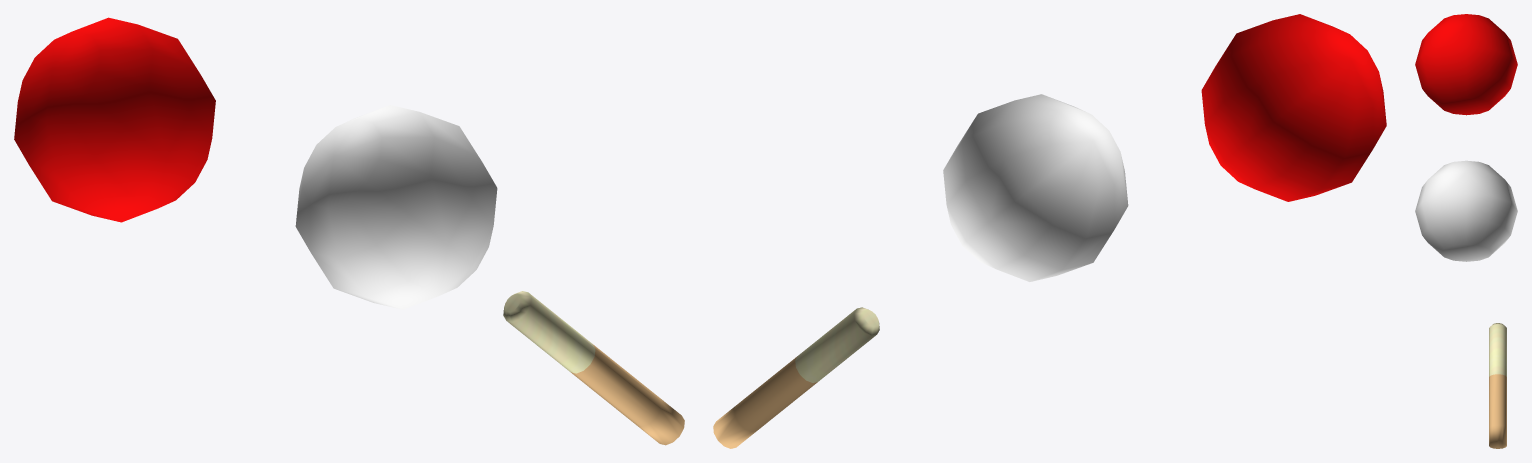
Rendered from bil1.ico.obj.
3 renders of one model, left to right at view 1: azimuth 30°, elevation 25°; view 2: azimuth 150°, elevation 25°; view 3: azimuth 270°, elevation 25°, orthographic. The views are drawn at different scales.
Bounding box in the file's own units: 3.66 × 2.96 × 0.9531.
1 material, 1 textured.
